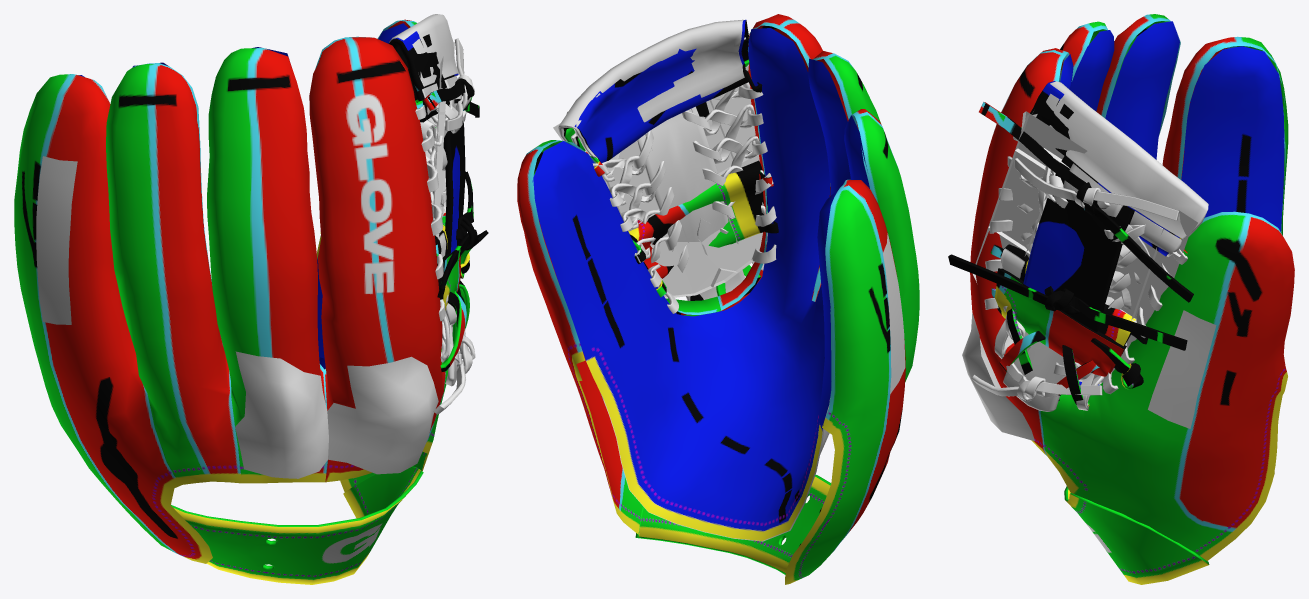
Rendered from openBackGlove.glb.
3 views of the same model, side by side, from view 1: azimuth 30°, elevation 25°; view 2: azimuth 150°, elevation 25°; view 3: azimuth 270°, elevation 25° (orthographic). The views are drawn at different scales.
Visible parts, largest first — view 1: openBack, indexHood, middlePad, i, modTrap, pinkyName, framedModTrap; view 2: openBack, modTrap, i, basket, twoPiece, pinkyName, framedModTrap, onePiece; view 3: openBack, i, modTrap, basket, thumbName, framedModTrap, indexHood, onePiece, twoPiece, h.
Boxes of the visible parts, x1,y1,x2,y2 form: openBack: (14,19,447,584); indexHood: (327,356,438,474); middlePad: (235,351,328,478); i: (389,31,488,371); modTrap: (389,14,475,414); pinkyName: (36,156,77,324); framedModTrap: (433,75,447,238); openBack: (517,14,919,584); modTrap: (558,19,776,313); i: (563,19,778,315); basket: (557,87,767,298); twoPiece: (609,87,758,293); pinkyName: (883,233,905,394); framedModTrap: (557,87,767,296); onePiece: (553,125,748,223); openBack: (970,14,1294,584); i: (948,81,1193,406); modTrap: (971,81,1208,411); basket: (973,114,1193,384); thumbName: (1148,310,1216,428); framedModTrap: (992,114,1193,382); indexHood: (962,313,1034,441); onePiece: (988,111,1197,325); twoPiece: (975,115,1192,381); h: (973,114,1192,381).
Bounding box in the file's own units: 0.4323 × 0.5636 × 0.3466.
3 materials, 1 textured.
